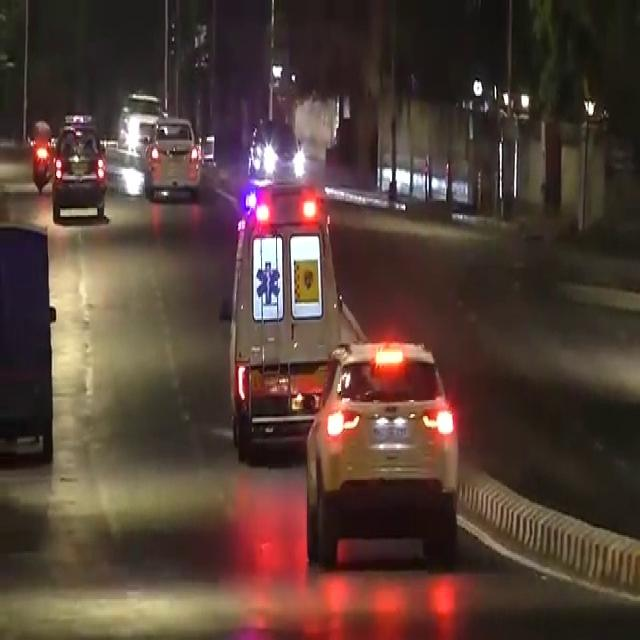ambulance: (222, 200, 346, 413)
